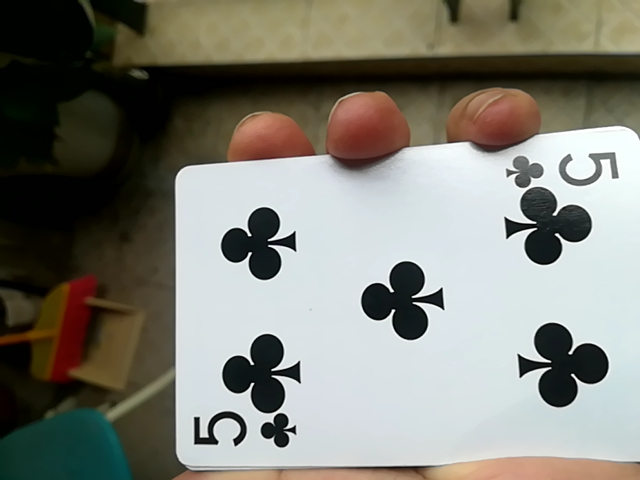mh 5: (154, 137, 636, 475)
